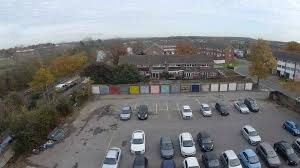car: (255, 141, 284, 168), (274, 141, 300, 167), (178, 132, 198, 156), (102, 145, 121, 168), (239, 124, 261, 143), (239, 149, 261, 168), (130, 129, 146, 154), (221, 150, 243, 168), (159, 134, 176, 157), (196, 132, 215, 150), (282, 117, 300, 134), (201, 153, 221, 168), (244, 96, 260, 112), (215, 102, 232, 117), (233, 100, 249, 114), (119, 104, 131, 119), (137, 104, 149, 119), (180, 105, 192, 119), (199, 104, 212, 115)
